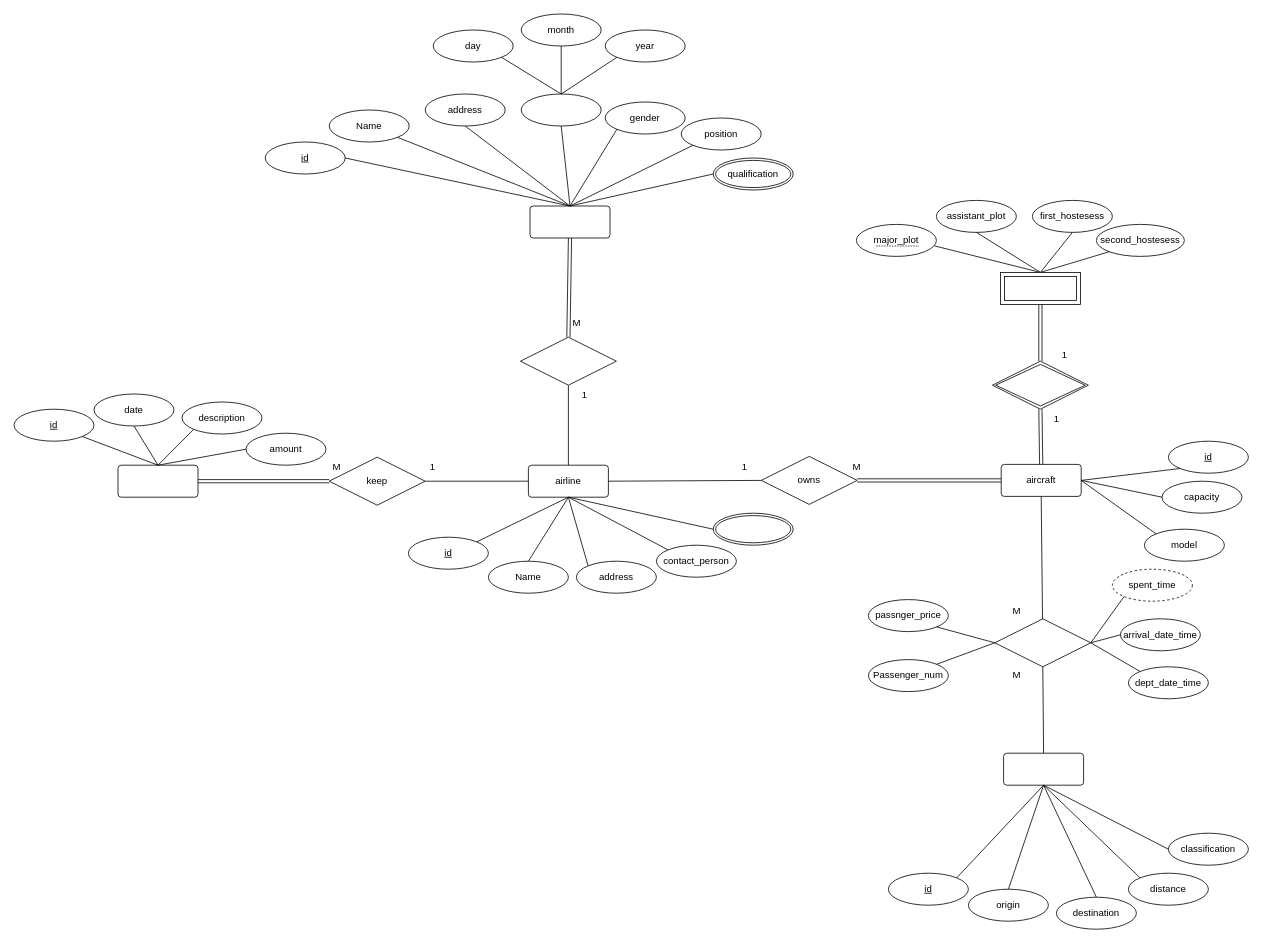
Some shapes in this 1262 by 943 pixel diagram are drawn without their labels. Each missing label, with the centre of its shape:
"assign_to" belongs at [1042,642].
"birthday" belongs at [560,109].
"crew" belongs at [1040,288].
"Employee" belongs at [569,221].
"has" belongs at [1040,384].
"route" belongs at [1043,768].
"telephone" belongs at [752,528].
"transaction" belongs at [157,480].
"works" belongs at [568,360].
